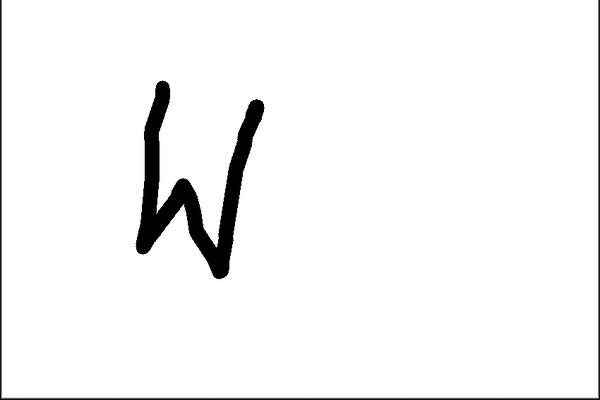w: (119, 65, 272, 283)
